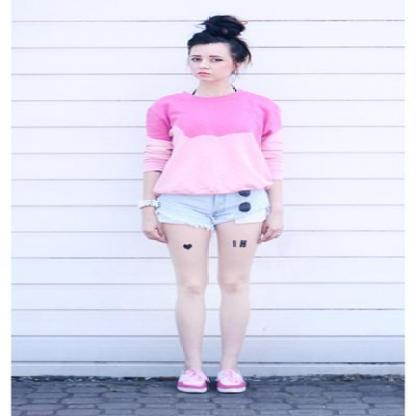shirt: (143, 90, 290, 194)
shoe: (178, 380, 244, 392)
shorts: (156, 190, 270, 228)
